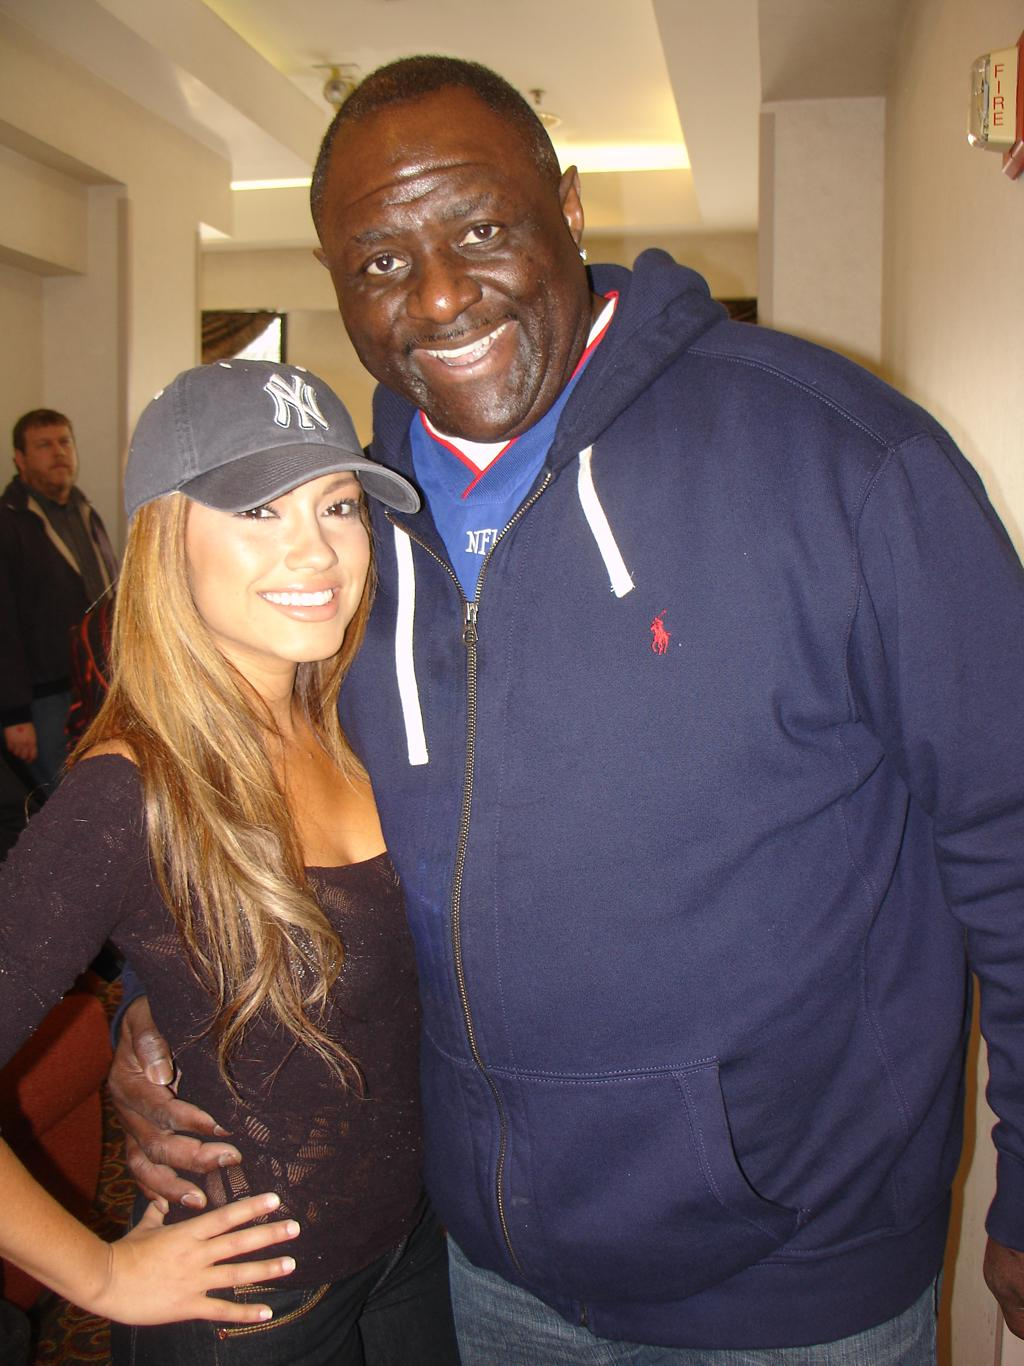face: (317, 144, 565, 429), (184, 453, 368, 661), (29, 421, 85, 490)
